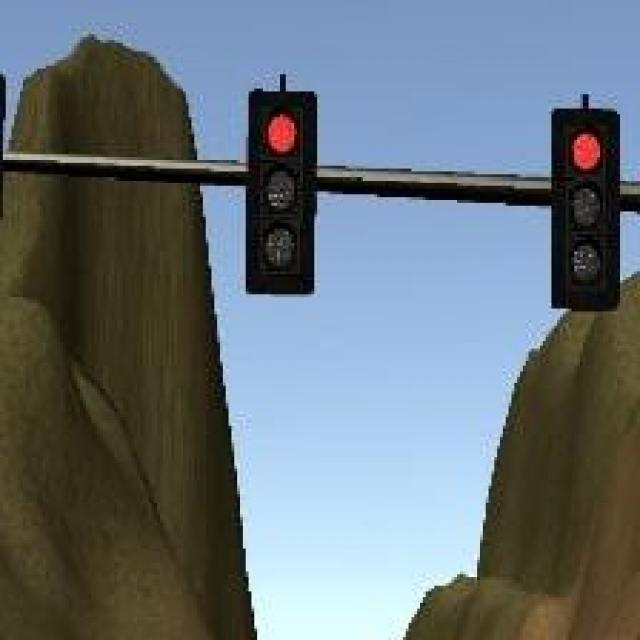red_light: (551, 109, 622, 318), (249, 86, 318, 292)
